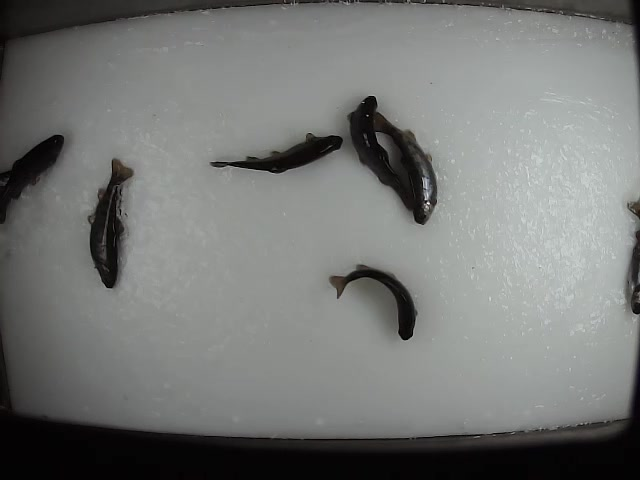fish: (347, 94, 429, 216), (365, 107, 440, 225), (85, 158, 143, 291), (327, 262, 421, 341), (203, 135, 341, 176)
